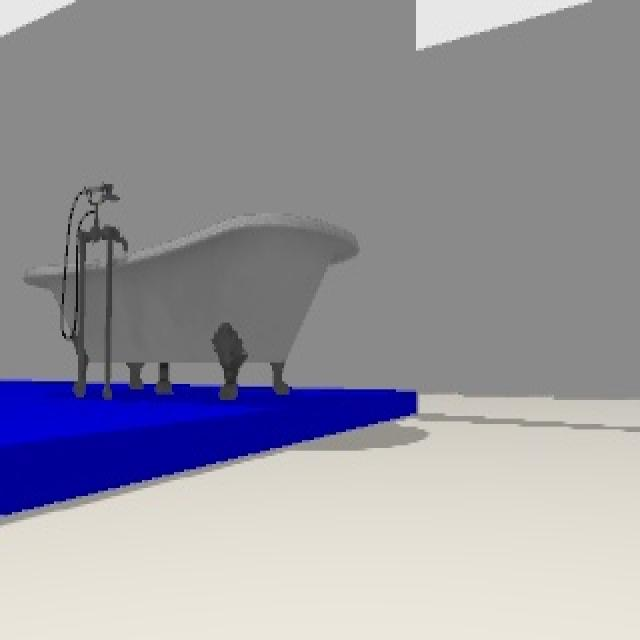bathtub: (31, 177, 361, 405)
